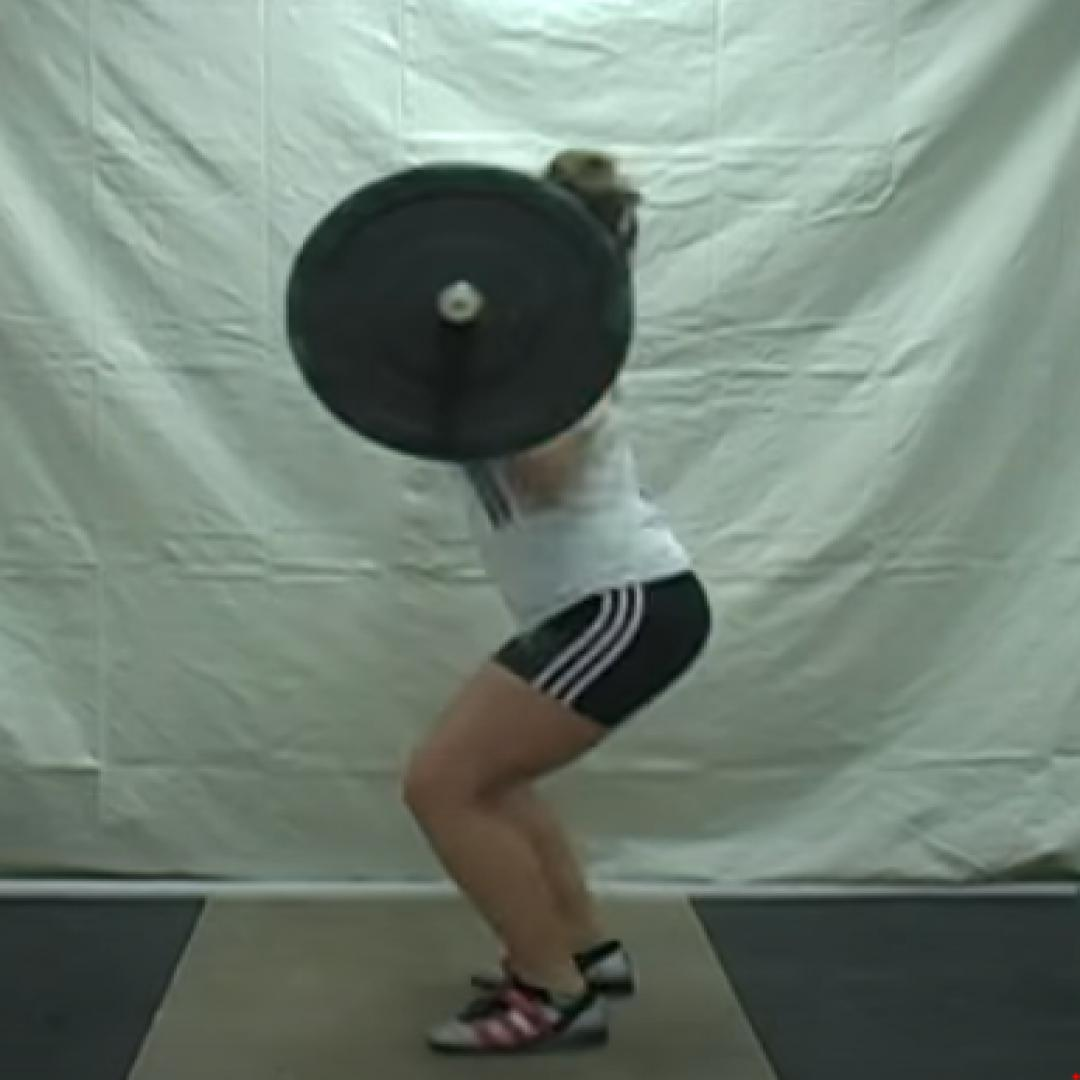Bar: (438, 283, 482, 323)
Barbell: (286, 163, 634, 462)
